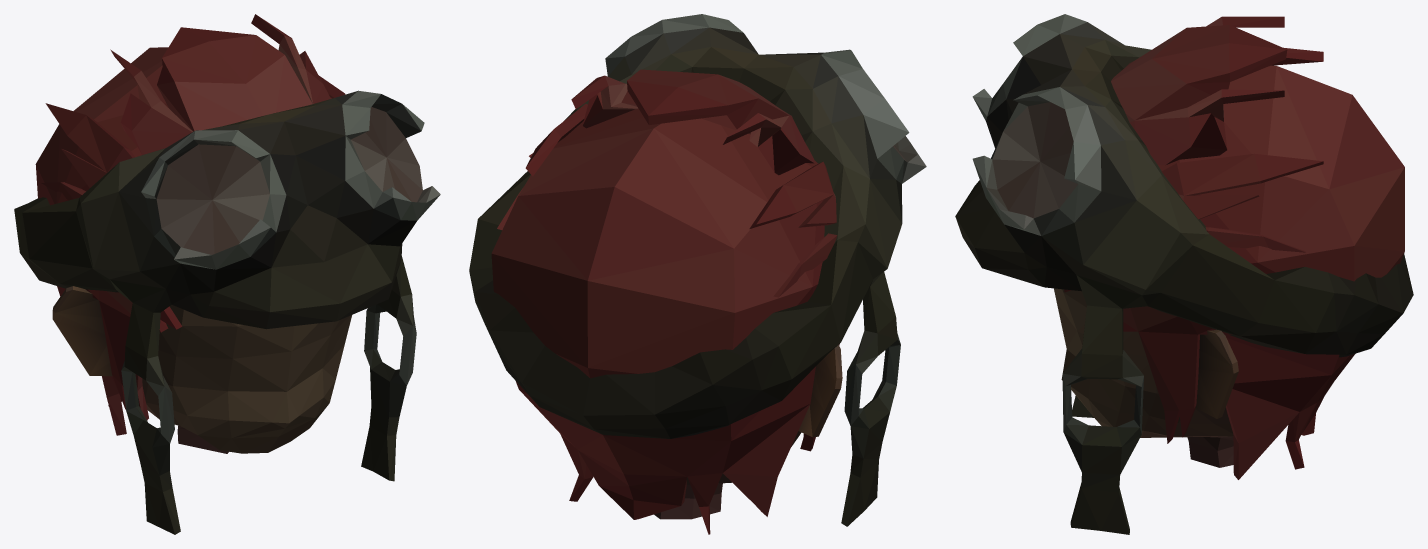
File: helm_darkskin_spike_red_goggles.fbx
3 renders of one model, left to right at view 1: azimuth 30°, elevation 25°; view 2: azimuth 150°, elevation 25°; view 3: azimuth 270°, elevation 25°, orthographic. The views are drawn at different scales.
Parts seen in each view (by area): view 1: helm_darkskin_spike_red_goggles; view 2: helm_darkskin_spike_red_goggles; view 3: helm_darkskin_spike_red_goggles.
Boxes of the visible parts, x1,y1,x2,y2 form: helm_darkskin_spike_red_goggles: [14, 14, 440, 534]; helm_darkskin_spike_red_goggles: [469, 14, 926, 534]; helm_darkskin_spike_red_goggles: [955, 14, 1413, 534].
Size of the model in its own units: 1.21 by 1.45 by 1.39.
